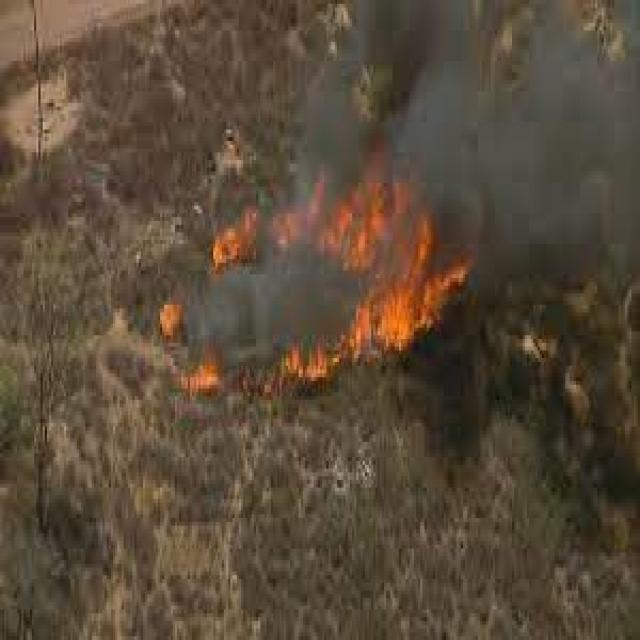Fire: (150, 157, 480, 414)
